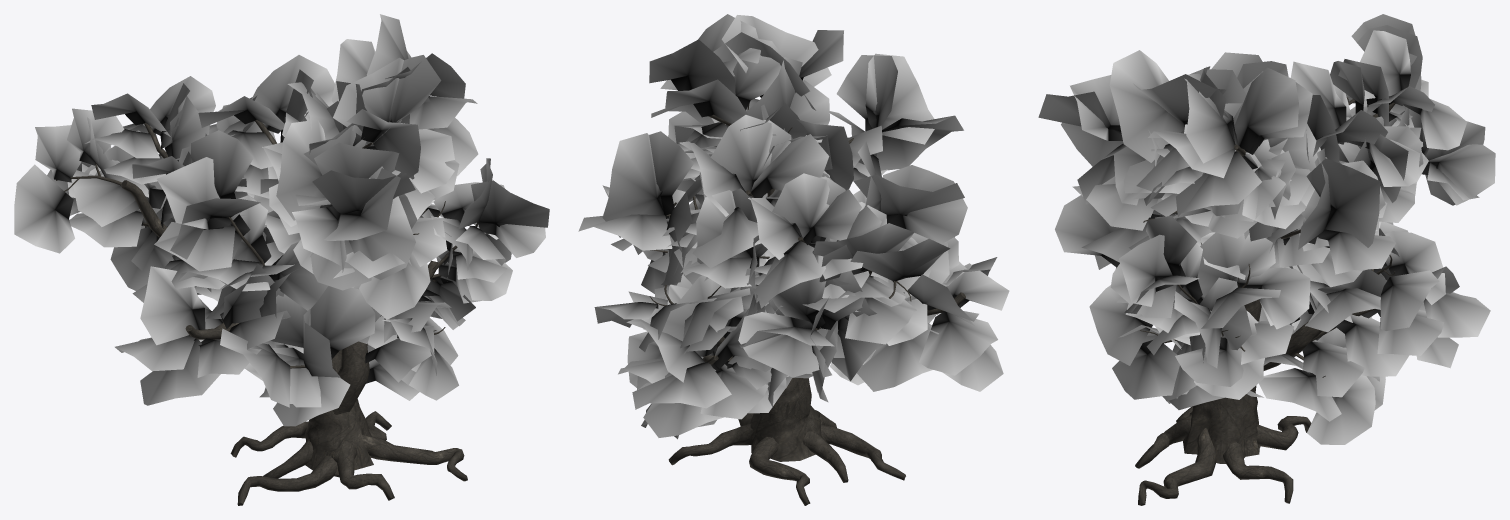
The model's file is tree4_afsTREE.fbx.
The picture shows the model from 3 angles, left to right: view 1: azimuth 30°, elevation 25°; view 2: azimuth 150°, elevation 25°; view 3: azimuth 270°, elevation 25°; orthographic projection.
Visible parts, largest first — view 1: trunk_xw05, leaf_xt15_59, leaf_xt15_80, leaf_xt15_207, leaf_xt15_140, leaf_xt15_201, leaf_xt15_169, leaf_xt15_128, leaf_xt15_200, leaf_xt15_151, leaf_xt15_150, leaf_xt15_83 (+67 smaller); view 2: trunk_xw05, leaf_xt15_187, leaf_xt15_199, leaf_xt15_77, leaf_xt15_69, leaf_xt15_144, leaf_xt15_179, leaf_xt15_157, leaf_xt15_114, leaf_xt15_142, leaf_xt15_82, leaf_xt15_182 (+59 smaller); view 3: trunk_xw05, leaf_xt15_151, leaf_xt15_187, leaf_xt15_157, leaf_xt15_5, leaf_xt15_90, leaf_xt15_168, leaf_xt15_2, leaf_xt15_3, leaf_xt15_71, leaf_xt15_6, leaf_xt15_155 (+72 smaller).
Boxes of the visible parts, x1,y1,x2,y2 form: trunk_xw05: (230,350,467,505); leaf_xt15_59: (14,164,74,253); leaf_xt15_80: (140,266,205,345); leaf_xt15_207: (310,286,375,359); leaf_xt15_140: (276,119,325,220); leaf_xt15_201: (156,157,230,229); leaf_xt15_169: (251,55,334,133); leaf_xt15_128: (359,252,430,319); leaf_xt15_200: (191,130,253,217); leaf_xt15_151: (346,109,420,177); leaf_xt15_150: (333,57,403,142); leaf_xt15_83: (140,338,220,405); trunk_xw05: (668,378,905,505); leaf_xt15_187: (602,133,664,237); leaf_xt15_199: (882,165,967,244); leaf_xt15_77: (919,311,997,375); leaf_xt15_69: (738,312,819,377); leaf_xt15_144: (865,53,934,144); leaf_xt15_179: (699,115,772,198); leaf_xt15_157: (649,39,735,94); leaf_xt15_114: (632,362,731,409); leaf_xt15_142: (836,55,897,131); leaf_xt15_82: (857,323,932,391); leaf_xt15_182: (751,134,829,197); trunk_xw05: (1135,243,1311,505); leaf_xt15_151: (1109,50,1184,162); leaf_xt15_187: (1306,158,1380,247); leaf_xt15_157: (1234,67,1298,151); leaf_xt15_5: (1197,232,1275,296); leaf_xt15_90: (1307,375,1375,444); leaf_xt15_168: (1176,151,1261,216); leaf_xt15_2: (1112,340,1189,399); leaf_xt15_3: (1089,285,1152,365); leaf_xt15_71: (1422,144,1495,205); leaf_xt15_6: (1244,267,1310,329); leaf_xt15_155: (1184,78,1235,163).
Bounding box in the file's own units: 2551 × 2371 × 2293.
